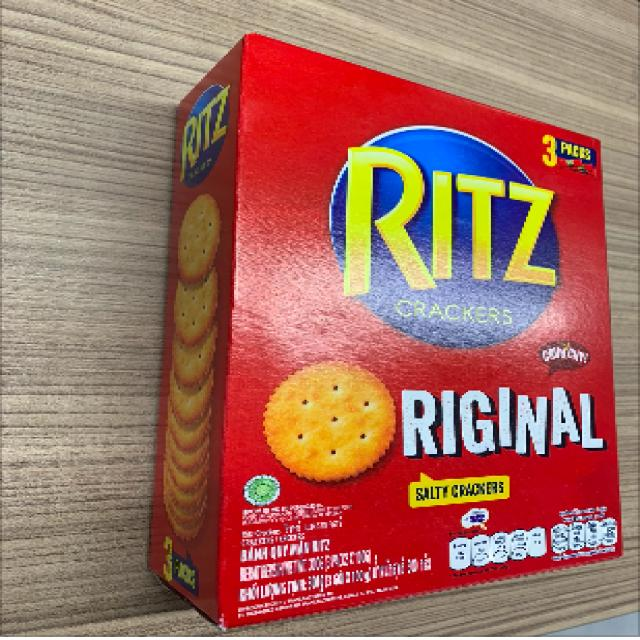object_name: (203, 57, 623, 581)
